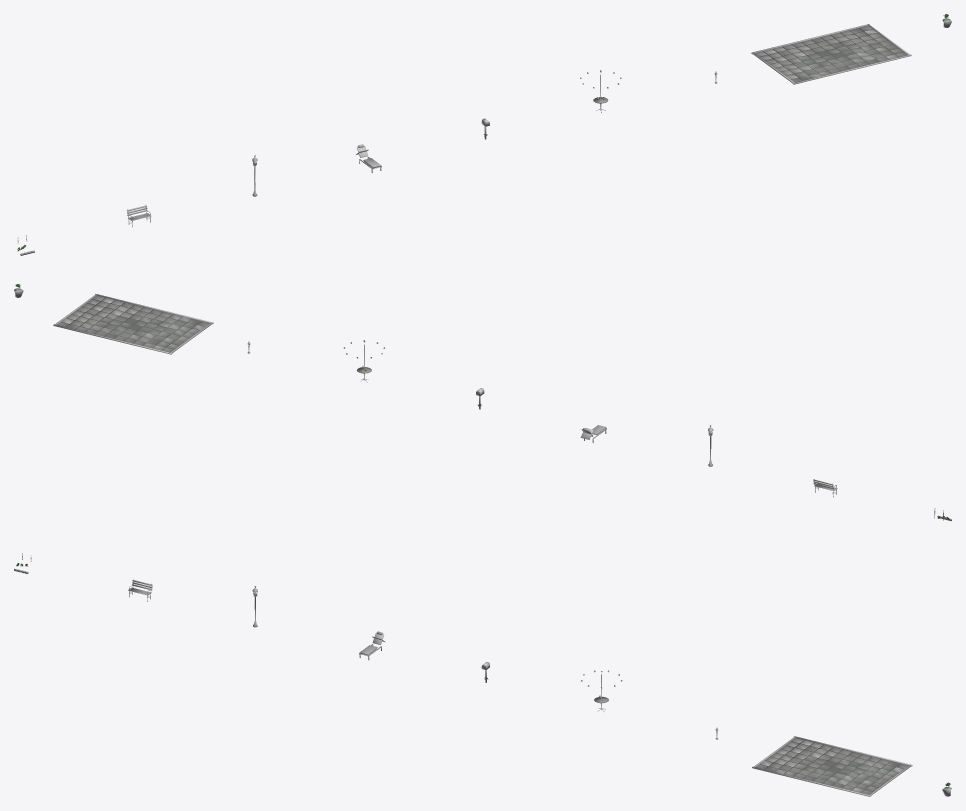
The model's file is bld_home_garden4_lite.glb.
3 renders of one model, top to bottom at view 1: azimuth 30°, elevation 25°; view 2: azimuth 150°, elevation 25°; view 3: azimuth 330°, elevation 25°, orthographic.
Visible parts, largest first — view 1: INST_bld_home_garden4_lite_patio_s_stone, INST_bld_home_garden4_lite_patio_s_fixed, INST_bld_home_garden4_lite_patio_s_edge; view 2: INST_bld_home_garden4_lite_patio_s_stone, INST_bld_home_garden4_lite_patio_s_fixed, INST_bld_home_garden4_lite_patio_s_edge; view 3: INST_bld_home_garden4_lite_patio_s_stone, INST_bld_home_garden4_lite_patio_s_fixed, INST_bld_home_garden4_lite_patio_s_edge.
Part boxes in pixels (x1=…): INST_bld_home_garden4_lite_patio_s_stone: x1=755, y1=25, x2=907, y2=82; INST_bld_home_garden4_lite_patio_s_fixed: x1=760, y1=28, x2=903, y2=80; INST_bld_home_garden4_lite_patio_s_edge: x1=751, y1=24, x2=911, y2=84; INST_bld_home_garden4_lite_patio_s_stone: x1=57, y1=295, x2=209, y2=352; INST_bld_home_garden4_lite_patio_s_fixed: x1=61, y1=298, x2=204, y2=350; INST_bld_home_garden4_lite_patio_s_edge: x1=53, y1=294, x2=213, y2=354; INST_bld_home_garden4_lite_patio_s_stone: x1=756, y1=738, x2=908, y2=794; INST_bld_home_garden4_lite_patio_s_fixed: x1=760, y1=740, x2=903, y2=792; INST_bld_home_garden4_lite_patio_s_edge: x1=752, y1=736, x2=912, y2=796.
Bounding box in the file's own units: 64.78 × 2.68 × 5.11.
